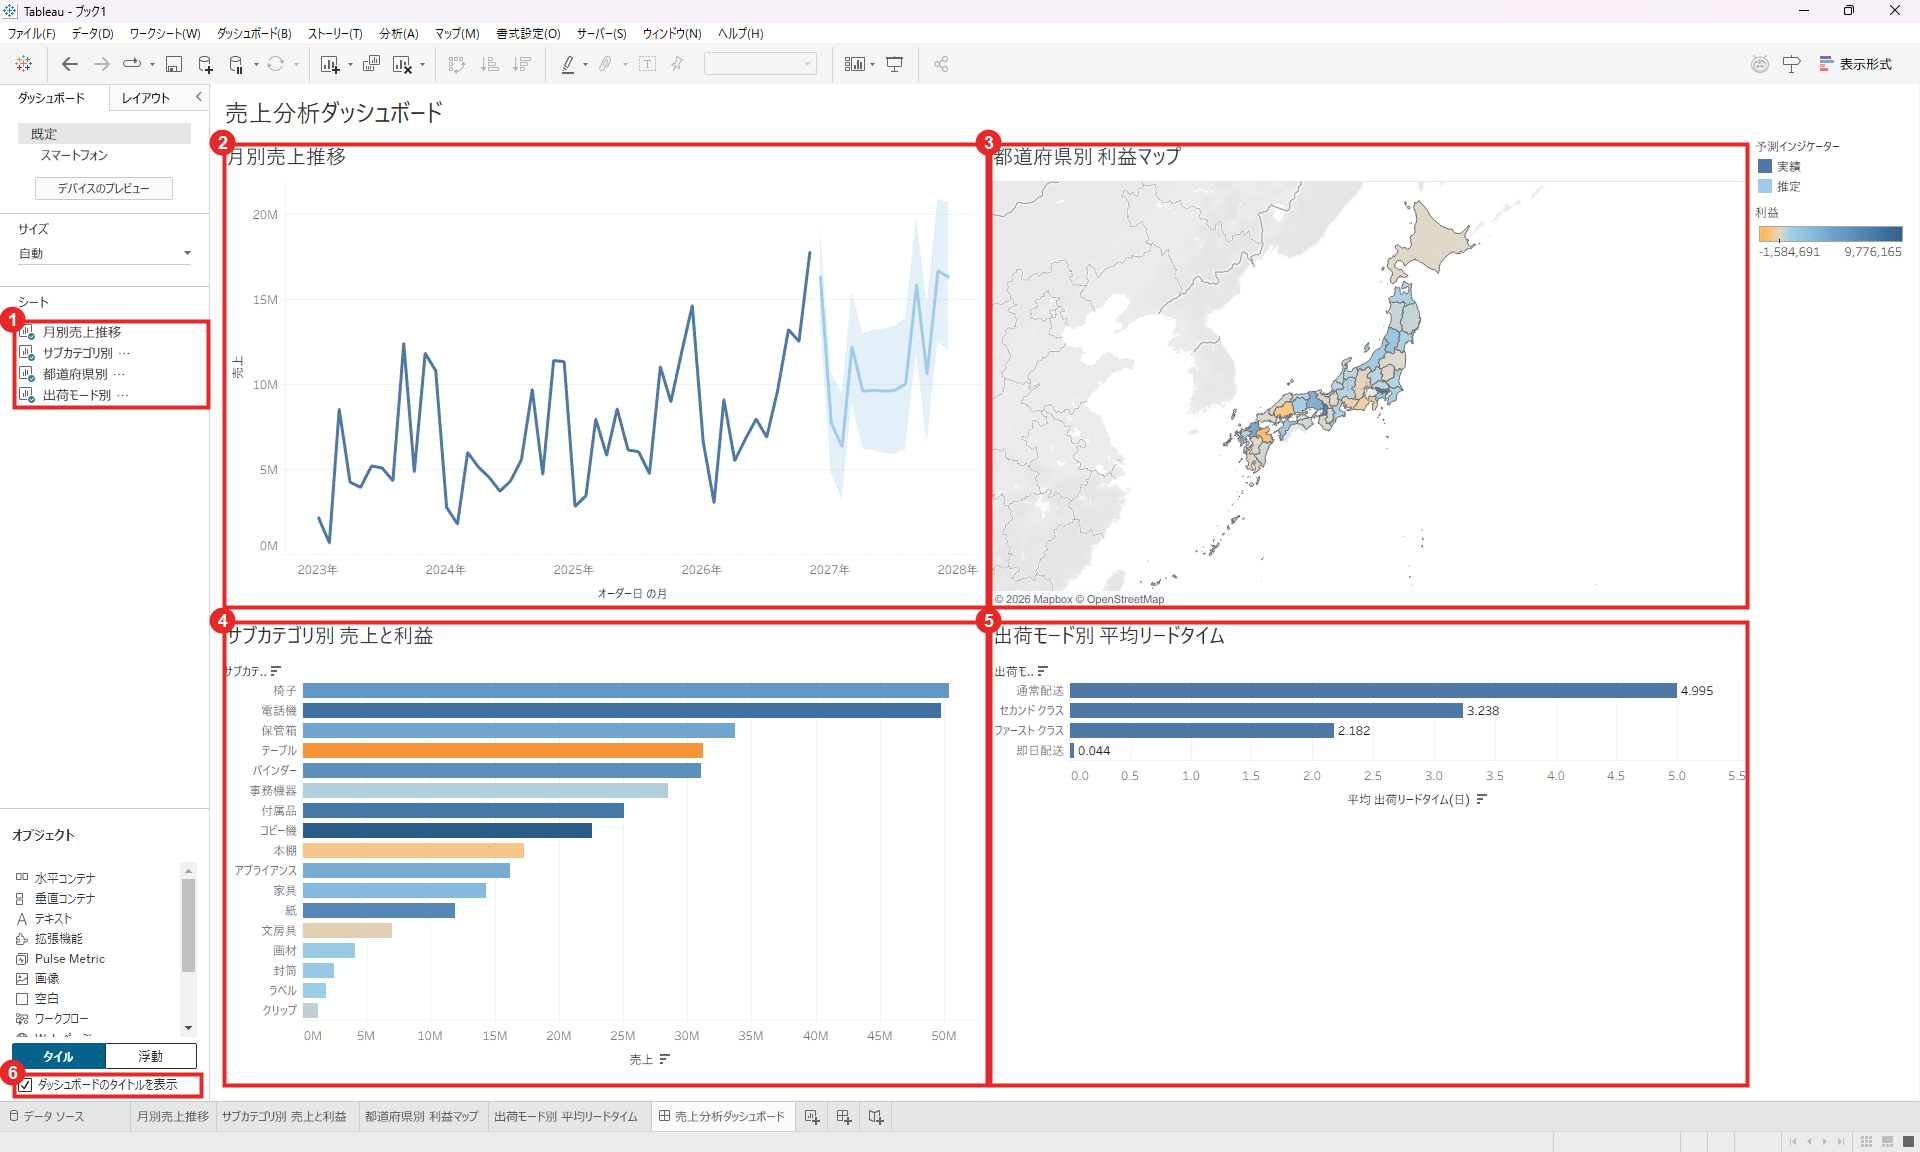

What the dashboard file says about the page in this screenshot:
{"tool":"tableau","page":{"name":"売上分析ダッシュボード","canvas":[1000,1000],"units":"permille","ordinal":0},"visuals":[{"type":"title","box":[4.7,7.9,990.6,41.3]},{"type":"worksheet","title":"月別売上推移","mark":"Automatic","rows":["売上"],"cols":["オーダー日"],"box":[4.7,49.2,448.5,471.5]},{"type":"worksheet","title":"都道府県別 利益マップ","mark":"Multipolygon","box":[453.2,49.2,448.5,471.5]},{"type":"legend","title":"月別売上推移","param":"[サンプル - スーパーストア].[none:Forecast Indicator:nk]","box":[901.7,49.2,93.6,65]},{"type":"legend","title":"都道府県別 利益マップ","param":"[サンプル - スーパーストア].[sum:利益:qk]","box":[901.7,114.2,93.6,64]},{"type":"worksheet","title":"サブカテゴリ別 売上と利益","mark":"Automatic","rows":["サブカテゴリ"],"cols":["売上"],"box":[4.7,520.7,448.5,471.5]},{"type":"worksheet","title":"出荷モード別 平均リードタイム","mark":"Automatic","rows":["出荷モード"],"cols":["Calculation_1357122600267776"],"box":[453.2,520.7,448.5,471.5]}]}

Visuals, with their boxes on the dashboard's canvas, which has no fixed pixel size, in thousandths of its width and height (x1, y1, x2, y2). These are canvas units, not pixel positions in the 1920x1152 screenshot, which may show the page scaled, cropped or inside an application window:
title: 5 8 995 49
"月別売上推移" worksheet: 5 49 453 521
"都道府県別 利益マップ" worksheet (Multipolygon marks): 453 49 902 521
"月別売上推移" legend: 902 49 995 114
"都道府県別 利益マップ" legend: 902 114 995 178
"サブカテゴリ別 売上と利益" worksheet: 5 521 453 992
"出荷モード別 平均リードタイム" worksheet: 453 521 902 992
